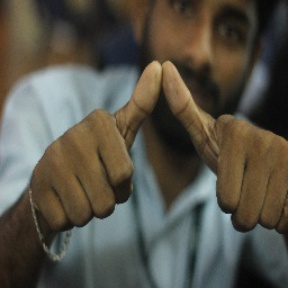A: (78, 57, 254, 205)
